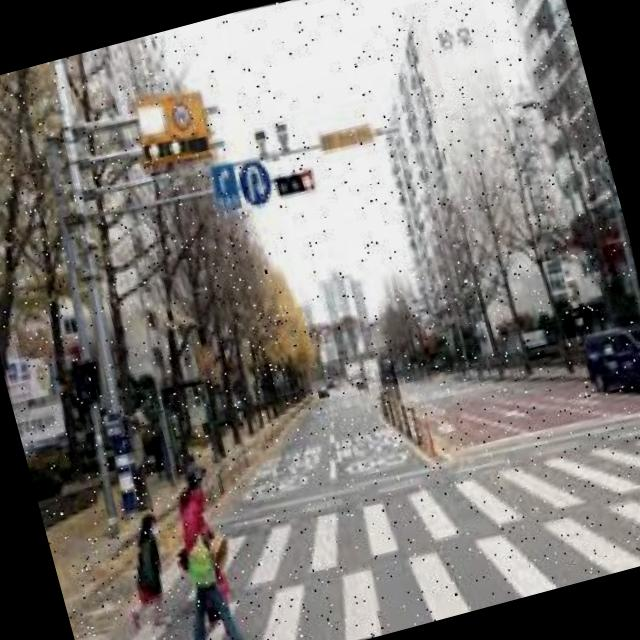Person: (145, 449, 271, 640), (104, 506, 187, 640)
